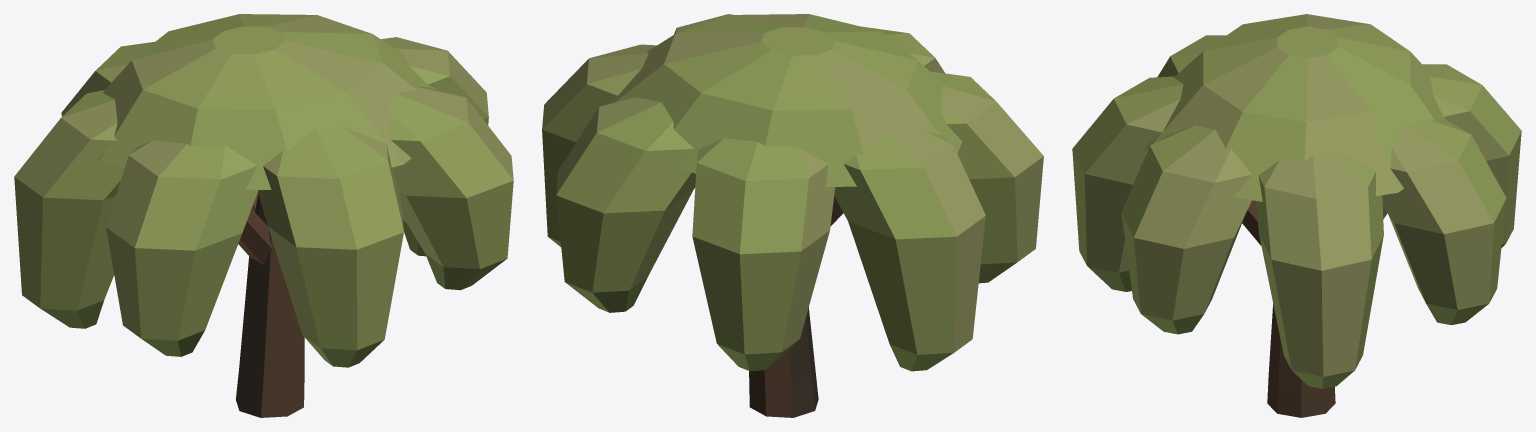
File: WillowTree.glb
3 renders of one model, left to right at view 1: azimuth 30°, elevation 25°; view 2: azimuth 150°, elevation 25°; view 3: azimuth 270°, elevation 25°, orthographic. The views are drawn at different scales.
Visible parts, largest first — view 1: Willow_Umbrella, Willow_Drape_05, Willow_Drape_04, Willow_Drape_06, Willow_Drape_03, Willow_Trunk, Willow_Drape_00, Willow_Drape_02, Willow_Bough_02; view 2: Willow_Umbrella, Willow_Drape_02, Willow_Drape_03, Willow_Drape_01, Willow_Drape_04, Willow_Drape_00, Willow_Trunk, Willow_Drape_05; view 3: Willow_Umbrella, Willow_Drape_00, Willow_Drape_06, Willow_Drape_01, Willow_Drape_05, Willow_Drape_02, Willow_Trunk, Willow_Drape_04, Willow_Bough_03.
Part boxes in pixels (<box>): Willow_Umbrella: <box>99,14,436,189</box>; Willow_Drape_05: <box>258,127,403,367</box>; Willow_Drape_04: <box>106,140,258,356</box>; Willow_Drape_06: <box>386,87,513,290</box>; Willow_Drape_03: <box>14,90,124,328</box>; Willow_Trunk: <box>236,194,304,417</box>; Willow_Drape_00: <box>381,37,488,256</box>; Willow_Drape_02: <box>61,42,154,116</box>; Willow_Bough_02: <box>238,209,273,264</box>; Willow_Umbrella: <box>602,14,962,186</box>; Willow_Drape_02: <box>692,138,835,371</box>; Willow_Drape_03: <box>834,130,985,371</box>; Willow_Drape_01: <box>556,97,695,312</box>; Willow_Drape_04: <box>930,71,1043,283</box>; Willow_Drape_00: <box>542,44,656,246</box>; Willow_Trunk: <box>749,307,818,417</box>; Willow_Drape_05: <box>862,26,944,73</box>; Willow_Umbrella: <box>1145,14,1446,201</box>; Willow_Drape_00: <box>1255,152,1383,388</box>; Willow_Drape_06: <box>1121,125,1251,334</box>; Willow_Drape_01: <box>1382,118,1506,325</box>; Willow_Drape_05: <box>1072,76,1183,291</box>; Willow_Drape_02: <box>1422,64,1521,247</box>; Willow_Trunk: <box>1267,303,1335,417</box>; Willow_Drape_04: <box>1157,35,1225,77</box>; Willow_Bough_03: <box>1242,200,1261,245</box>.
Bounding box in the file's own units: 4.61 × 3.65 × 4.21.
